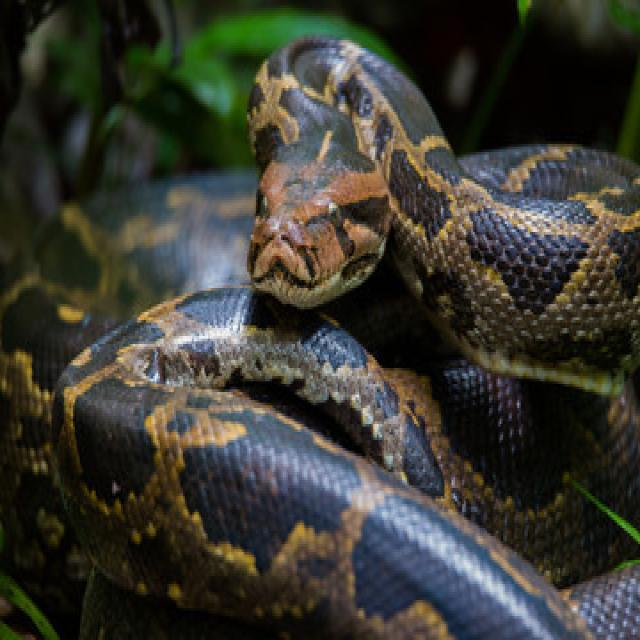Snake: (0, 30, 638, 638)
